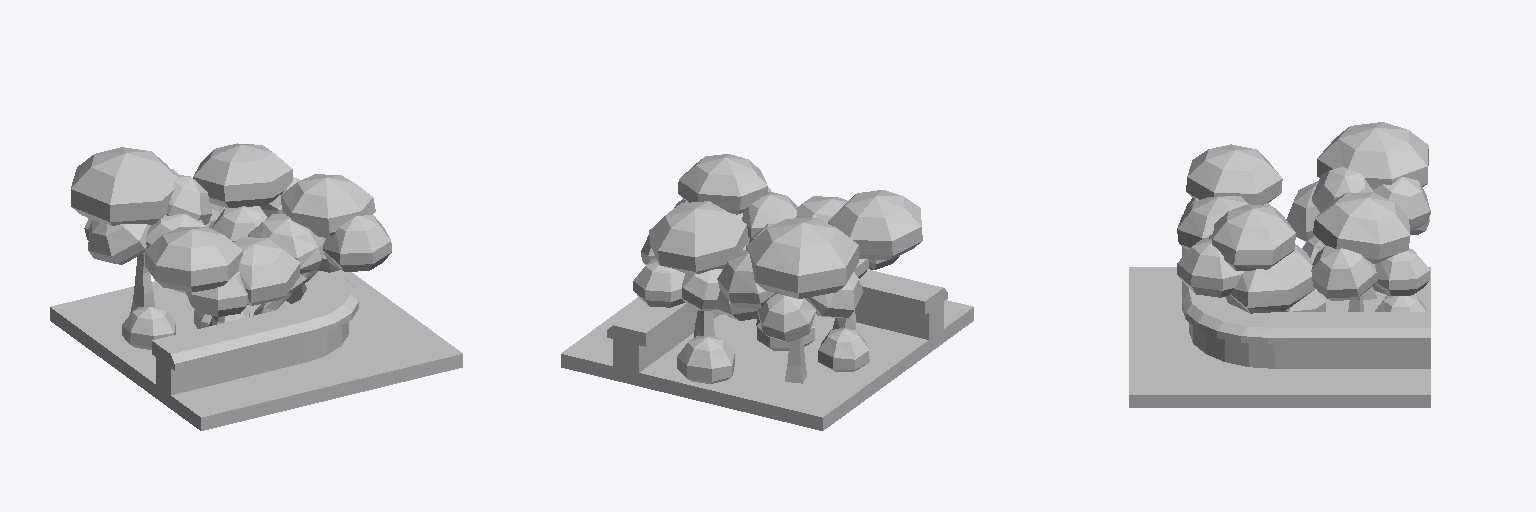
The model's file is park_wall_outerCorner_decorated.obj.
3 views of the same model, side by side, from view 1: azimuth 30°, elevation 25°; view 2: azimuth 150°, elevation 25°; view 3: azimuth 270°, elevation 25° (orthographic).
Parts seen in each view (by area): view 1: park_wall_outerCorner_decorated_Cube.14197; view 2: park_wall_outerCorner_decorated_Cube.14197; view 3: park_wall_outerCorner_decorated_Cube.14197.
Boxes of the visible parts, box(x1,y1,x2,y2) form: park_wall_outerCorner_decorated_Cube.14197: box(50, 143, 462, 430); park_wall_outerCorner_decorated_Cube.14197: box(561, 154, 973, 430); park_wall_outerCorner_decorated_Cube.14197: box(1129, 122, 1430, 407).
Size of the model in its own units: 2.01 by 1.28 by 2.